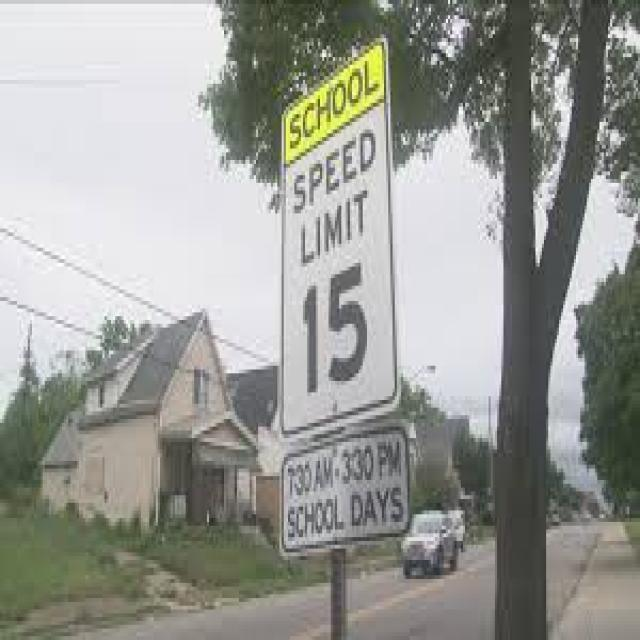speedLimit15: (279, 105, 399, 432)
